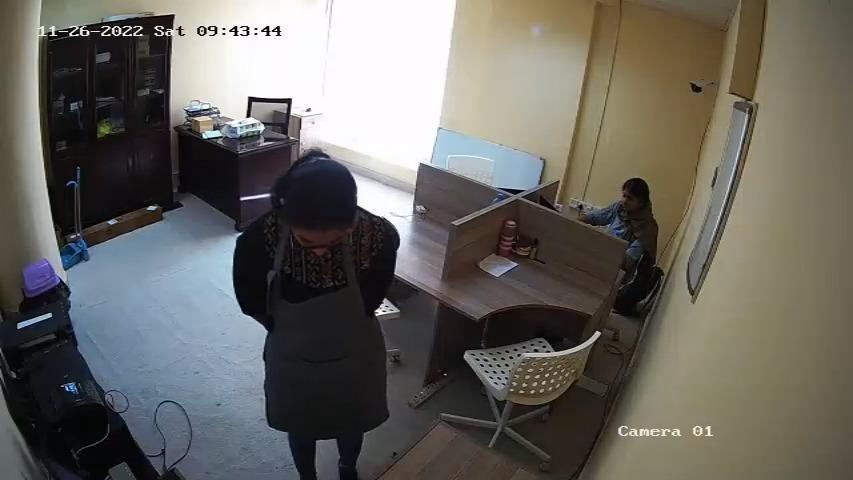apron: (268, 251, 379, 430)
